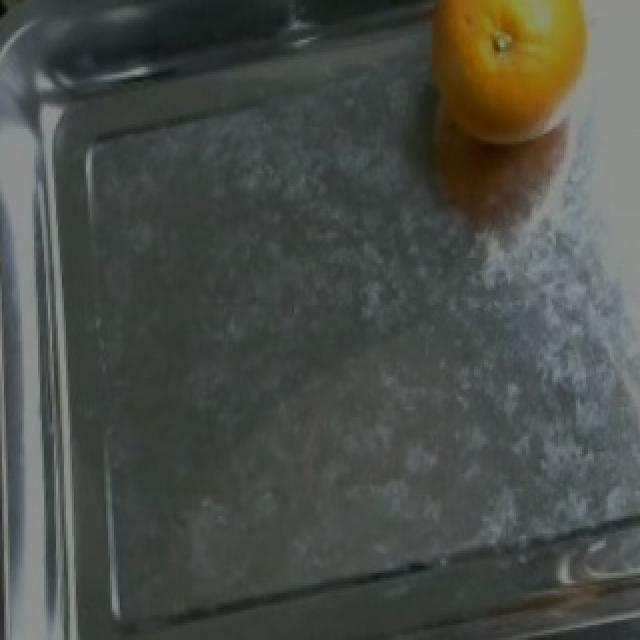Fruit: (396, 2, 620, 174)
